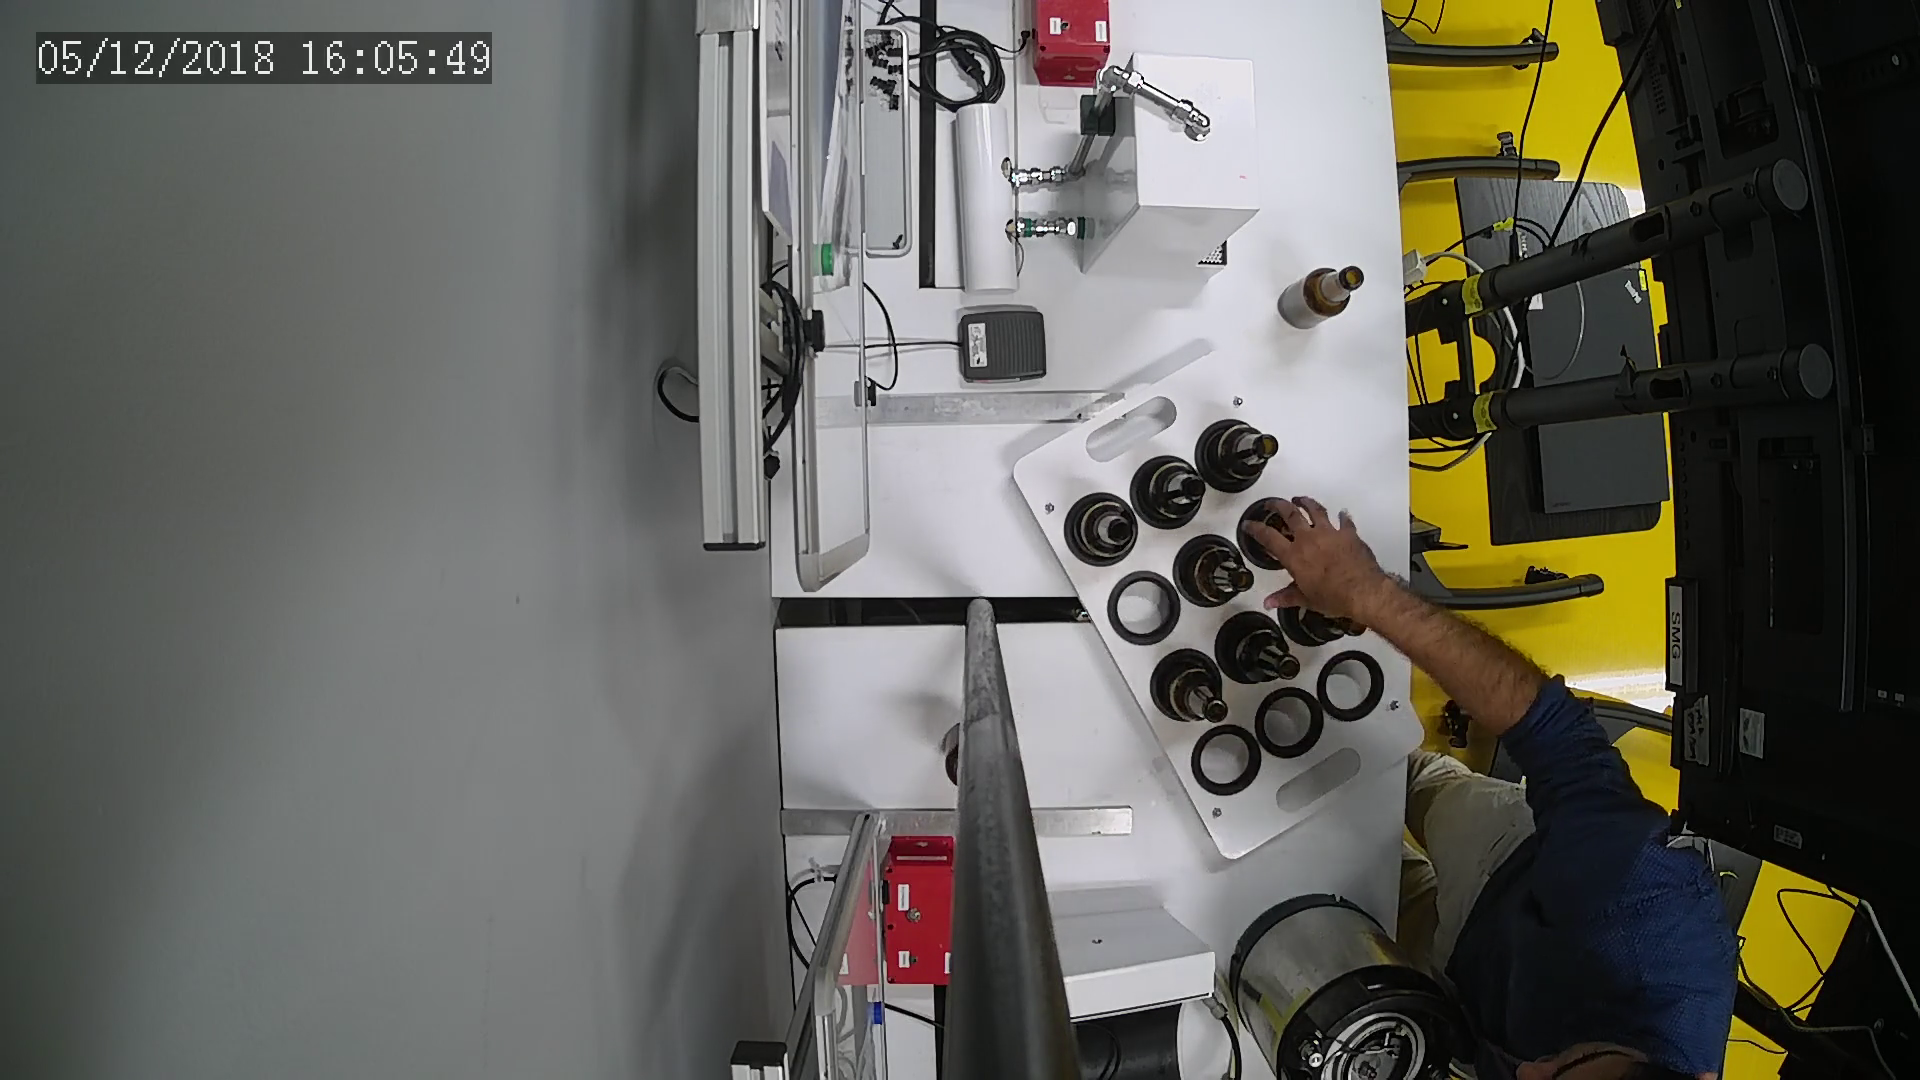filled_bottle: (1153, 647, 1236, 732), (1216, 615, 1304, 688), (1062, 493, 1141, 572), (1176, 535, 1262, 605), (1201, 418, 1280, 491), (1137, 455, 1208, 527)
trolley: (1011, 351, 1429, 861)
unfilled_bottle: (1276, 265, 1366, 328)
